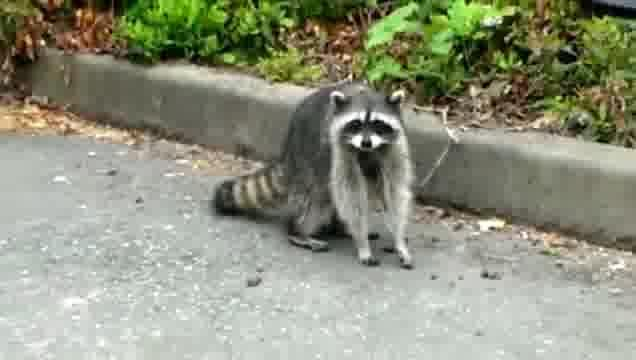raccoon: (212, 84, 419, 269)
